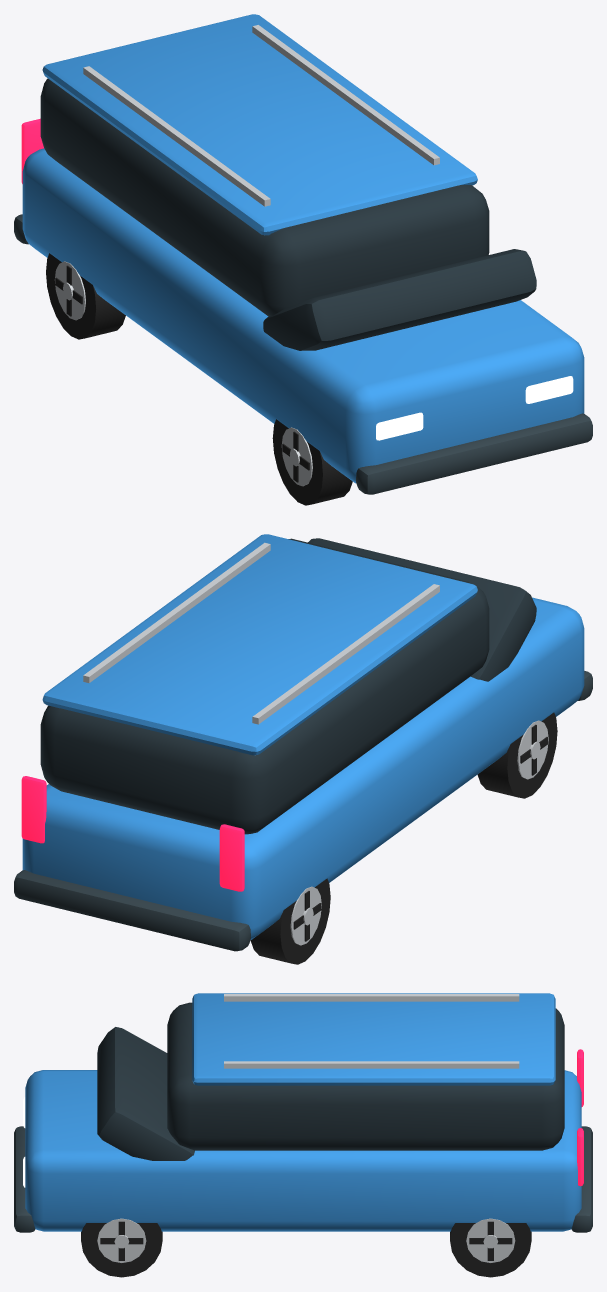
File: van.glb
3 renders of one model, top to bottom at view 1: azimuth 30°, elevation 25°; view 2: azimuth 150°, elevation 25°; view 3: azimuth 270°, elevation 25°, orthographic. The views are drawn at different scales.
Visible parts, largest first — view 1: Van_body, Wheel_RR.003, Wheel_FR.003; view 2: Van_body, Wheel_RR.003, Wheel_FR.003; view 3: Van_body, Wheel_RL.003, Wheel_FL.003.
Boxes of the visible parts, x1,y1,x2,y2 form: Van_body: (14,14,592,494); Wheel_RR.003: (46,253,125,339); Wheel_FR.003: (272,419,352,505); Van_body: (14,534,592,951); Wheel_RR.003: (250,878,330,964); Wheel_FR.003: (477,712,557,798); Van_body: (14,993,592,1232); Wheel_RL.003: (450,1218,531,1277); Wheel_FL.003: (81,1218,162,1277).
Bounding box in the file's own units: 2 × 1.97 × 5.1.
